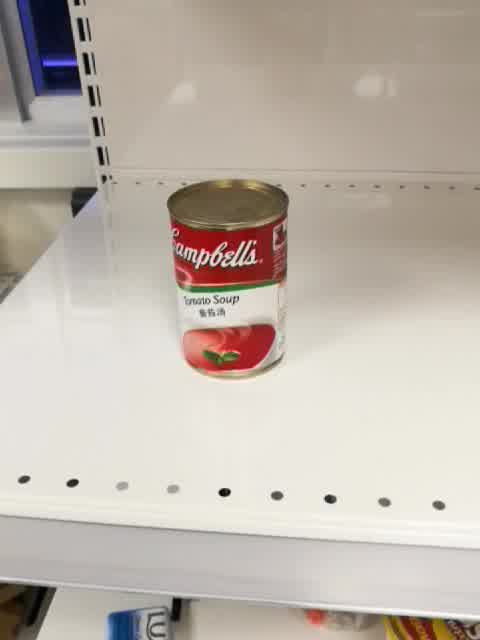tomatosoup: (166, 179, 291, 382)
